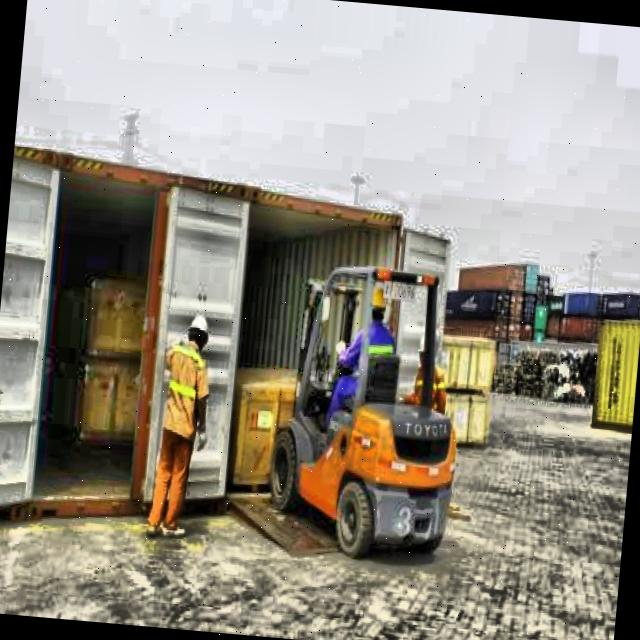helmet: (181, 309, 217, 358), (358, 280, 391, 325), (412, 326, 443, 370)
